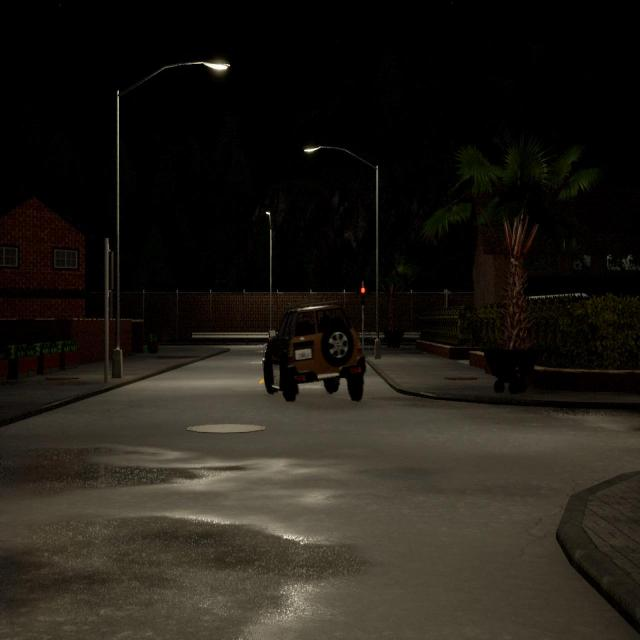Vehicle: (262, 305, 368, 404)
traffic_light: (103, 250, 115, 293), (359, 284, 367, 306)
